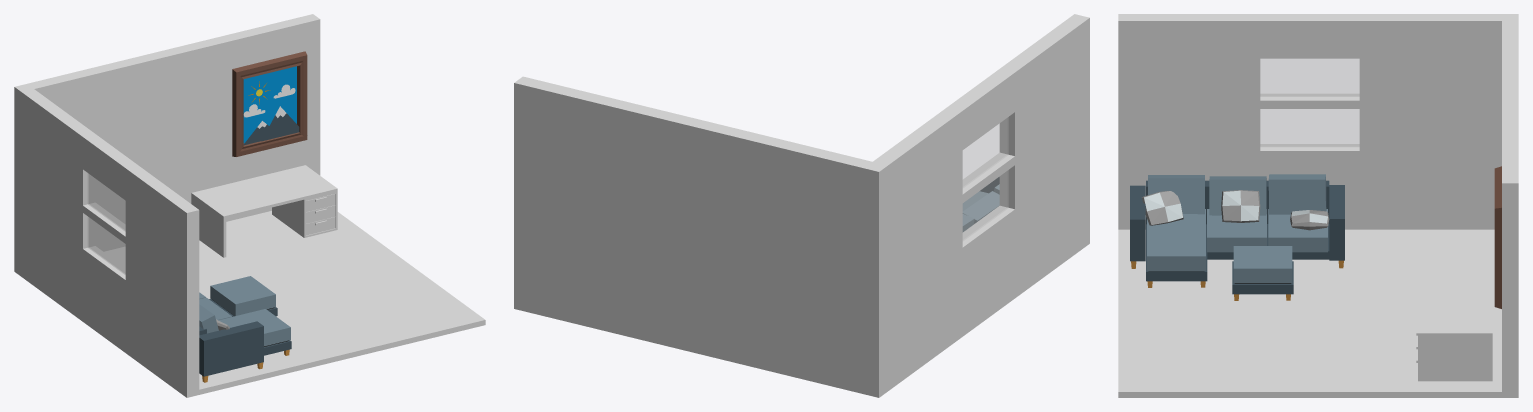
3 renders of one model, left to right at view 1: azimuth 30°, elevation 25°; view 2: azimuth 150°, elevation 25°; view 3: azimuth 270°, elevation 25°, orthographic. The views are drawn at different scales.
Visible parts, largest first — view 1: wall, Desk, group2012942376, Wall_Painting_01_Plane.002, window; view 2: wall, window, group2012942376; view 3: wall, group2012942376, Desk, window, Wall_Painting_01_Plane.002.
Boxes of the visible parts, <box> form: wall: <box>14,14,485,397</box>; Desk: <box>191,165,337,257</box>; group2012942376: <box>199,276,291,382</box>; Wall_Painting_01_Plane.002: <box>232,51,307,156</box>; window: <box>88,174,125,274</box>; wall: <box>514,14,1089,397</box>; window: <box>963,117,1008,240</box>; group2012942376: <box>962,177,999,231</box>; wall: <box>1118,14,1518,397</box>; group2012942376: <box>1130,174,1344,300</box>; Desk: <box>1416,268,1492,381</box>; window: <box>1260,59,1359,146</box>; Wall_Painting_01_Plane.002: <box>1494,166,1501,308</box>.
Bounding box in the file's own units: 5.22 × 3.09 × 5.22.
